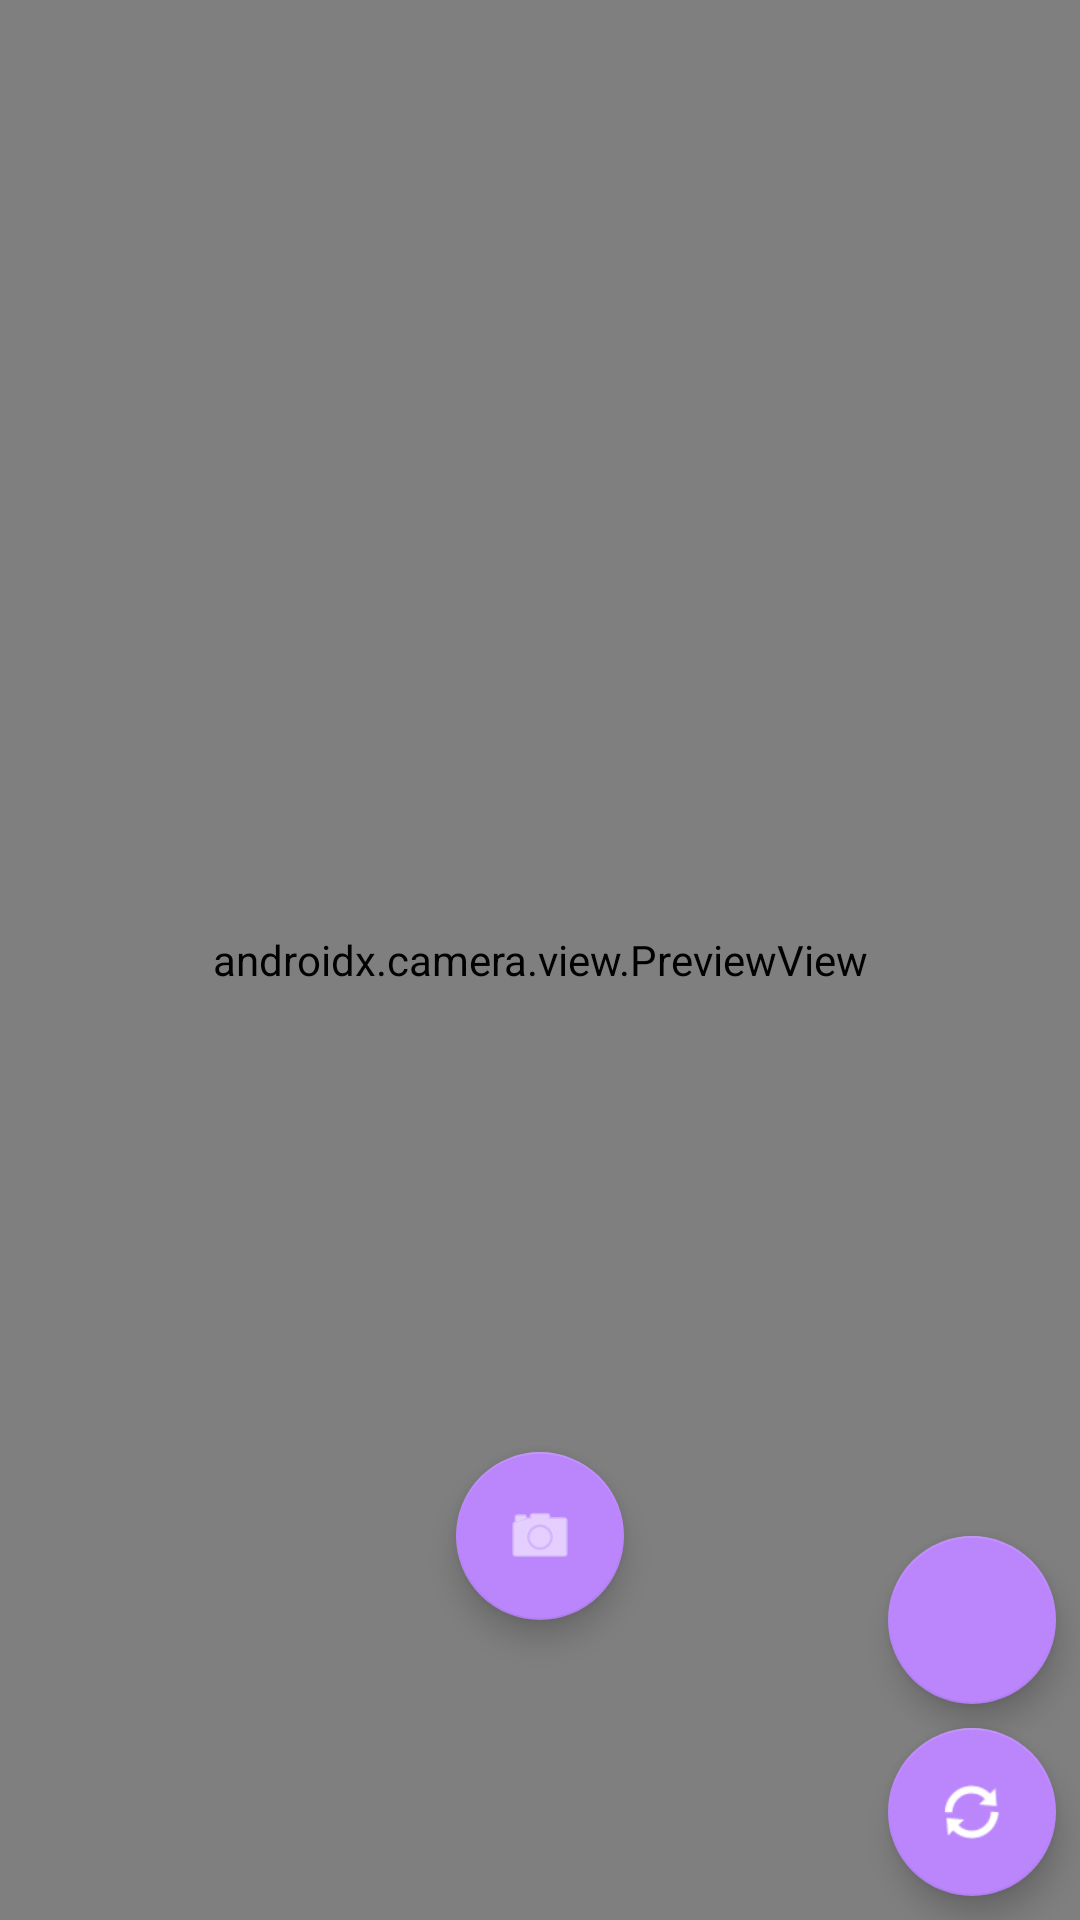

Named icons in this screenshot (1080px×1920px) and their bounding boxes, (x1, y1, x2, y2):
popup sync: (888, 1728, 1056, 1896)
